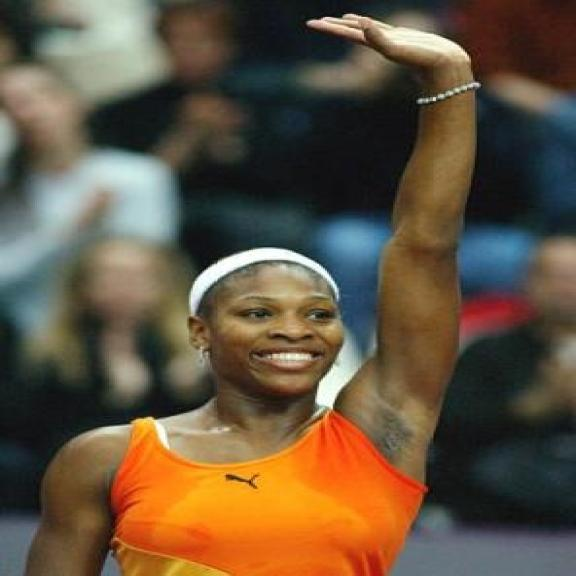face: (183, 265, 349, 399)
